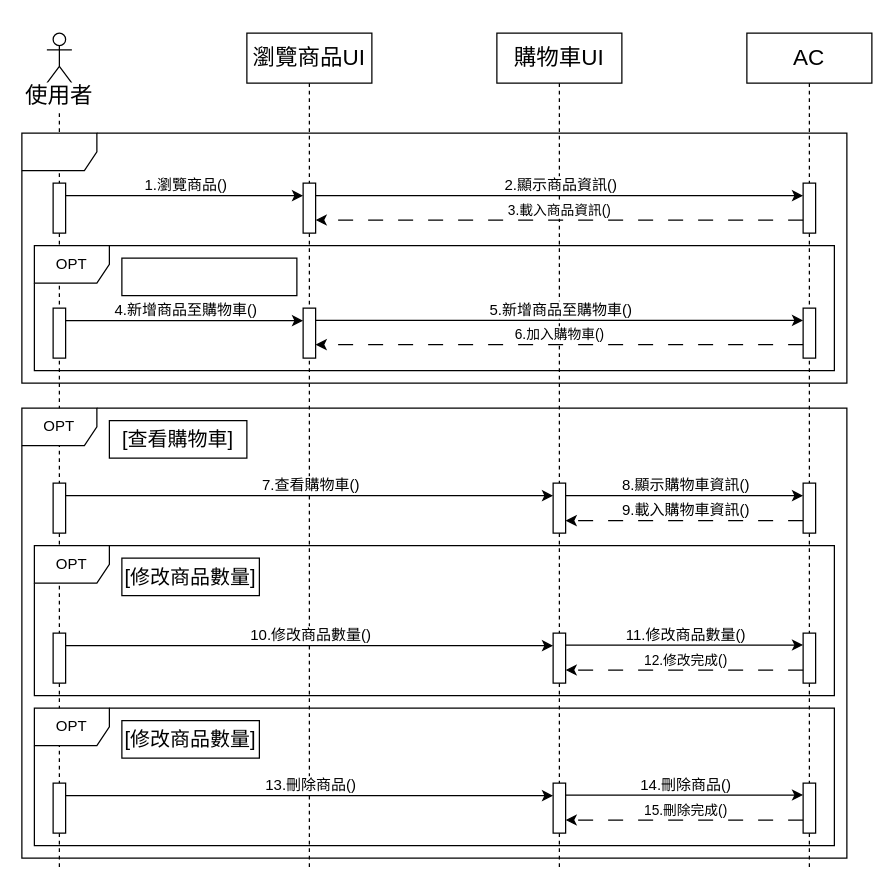
Image size: 894x893. Some labels were removed from this diagram. Here are the shapes that lost their labels. From the top down, the box of each, then its label:
(121, 257, 297, 296): [新增商品至購物車]
(21, 132, 847, 383): LOOP
